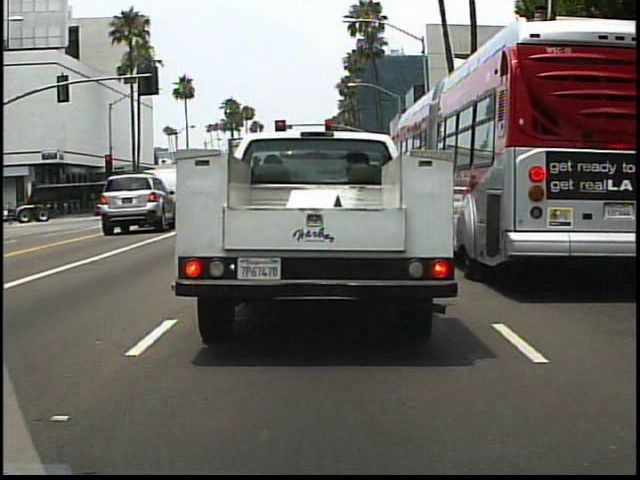person: (25, 194, 44, 227)
